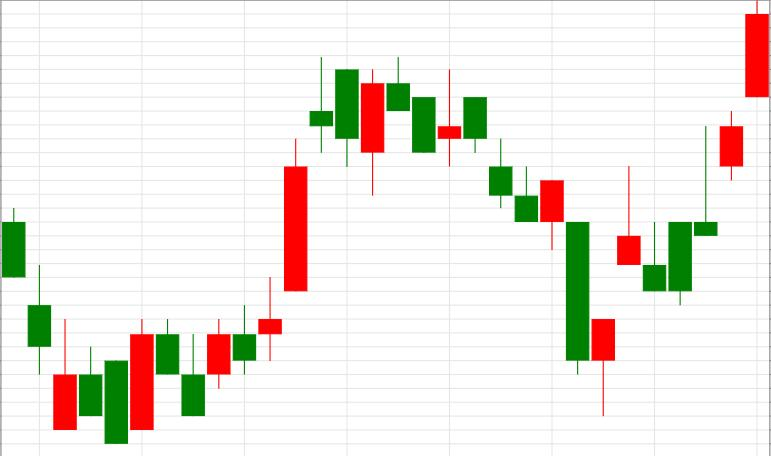hammer_rise: (464, 97, 615, 419)
